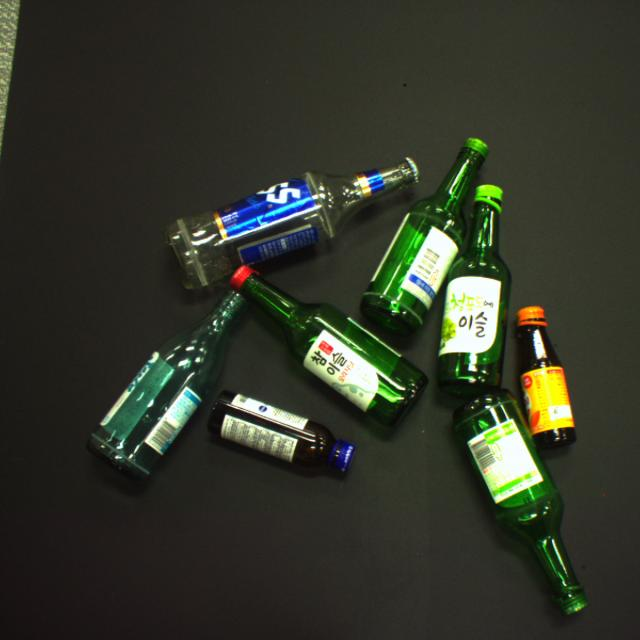beer-bottle: (164, 156, 419, 290)
soju-bottle: (230, 265, 428, 426), (453, 390, 587, 617), (88, 290, 246, 480), (363, 139, 487, 333), (437, 185, 511, 397)
